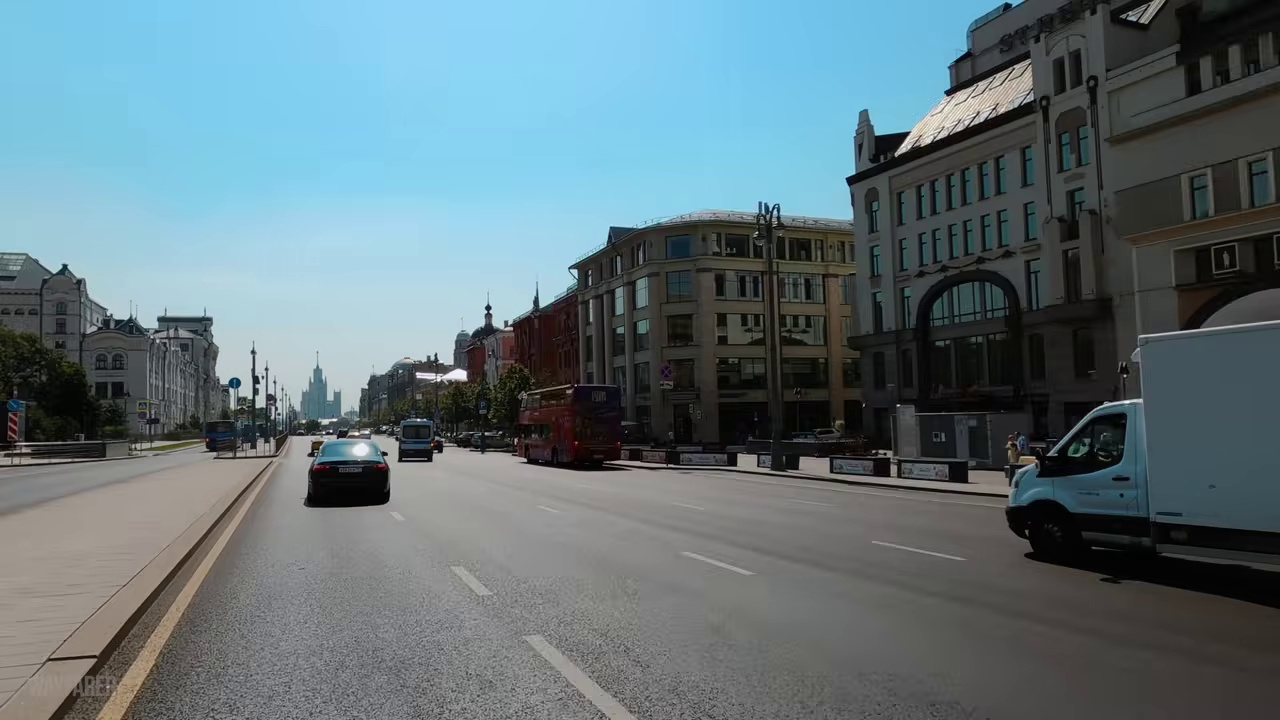apagada: (751, 203, 789, 252)
